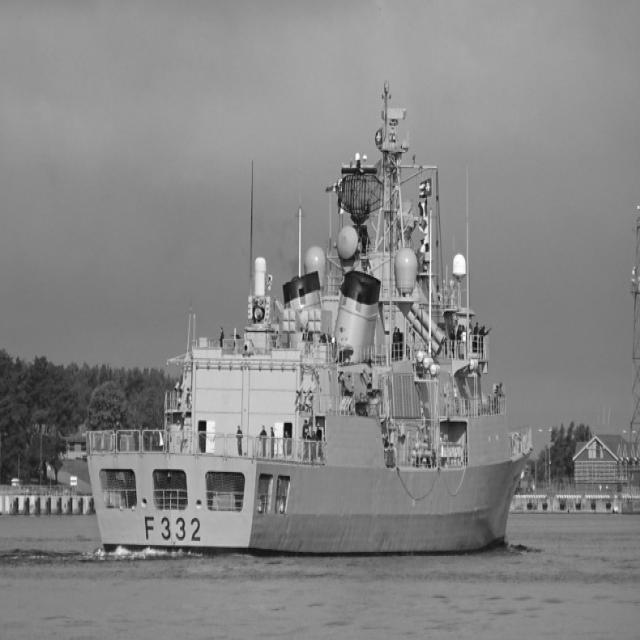Fragata: (84, 77, 539, 557)
